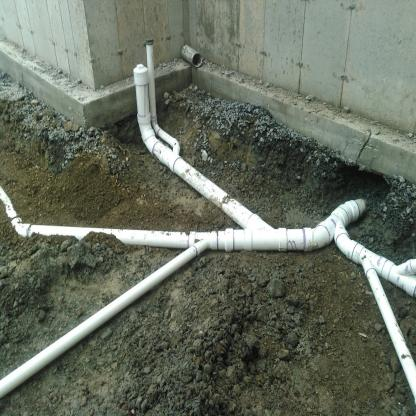PVC: (0, 38, 416, 402), (181, 43, 202, 67)
